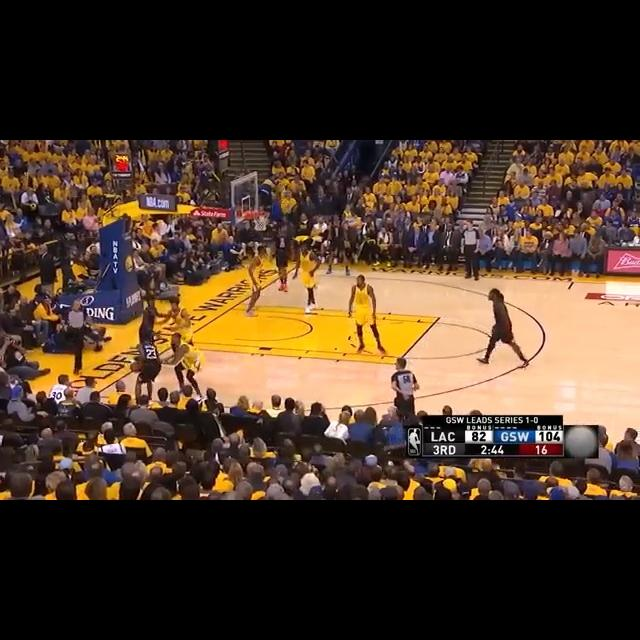basketball: (130, 362, 142, 373)
hoop: (248, 209, 272, 234)
